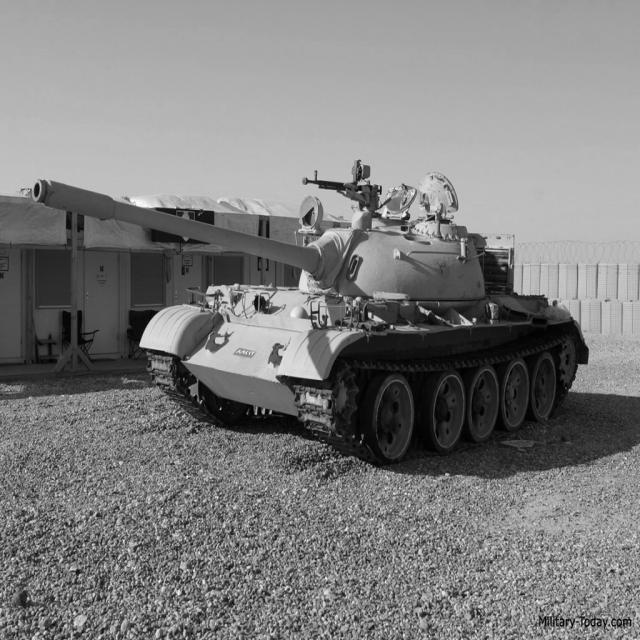Tank: (34, 162, 588, 463)
